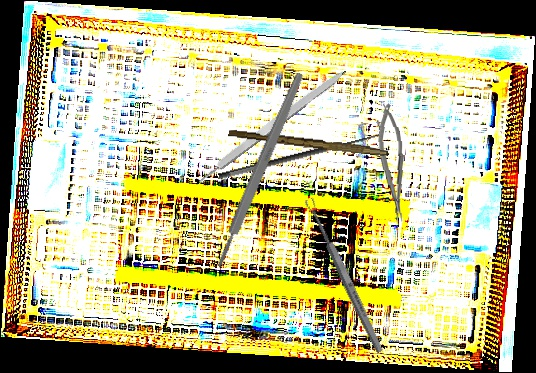Hook Surgical: (214, 119, 386, 182)
Needle Holder: (375, 102, 409, 224)
Scalpel Handle: (194, 65, 349, 185), (213, 71, 306, 269), (227, 128, 390, 157)
Surgical Spoon: (303, 196, 386, 355)
